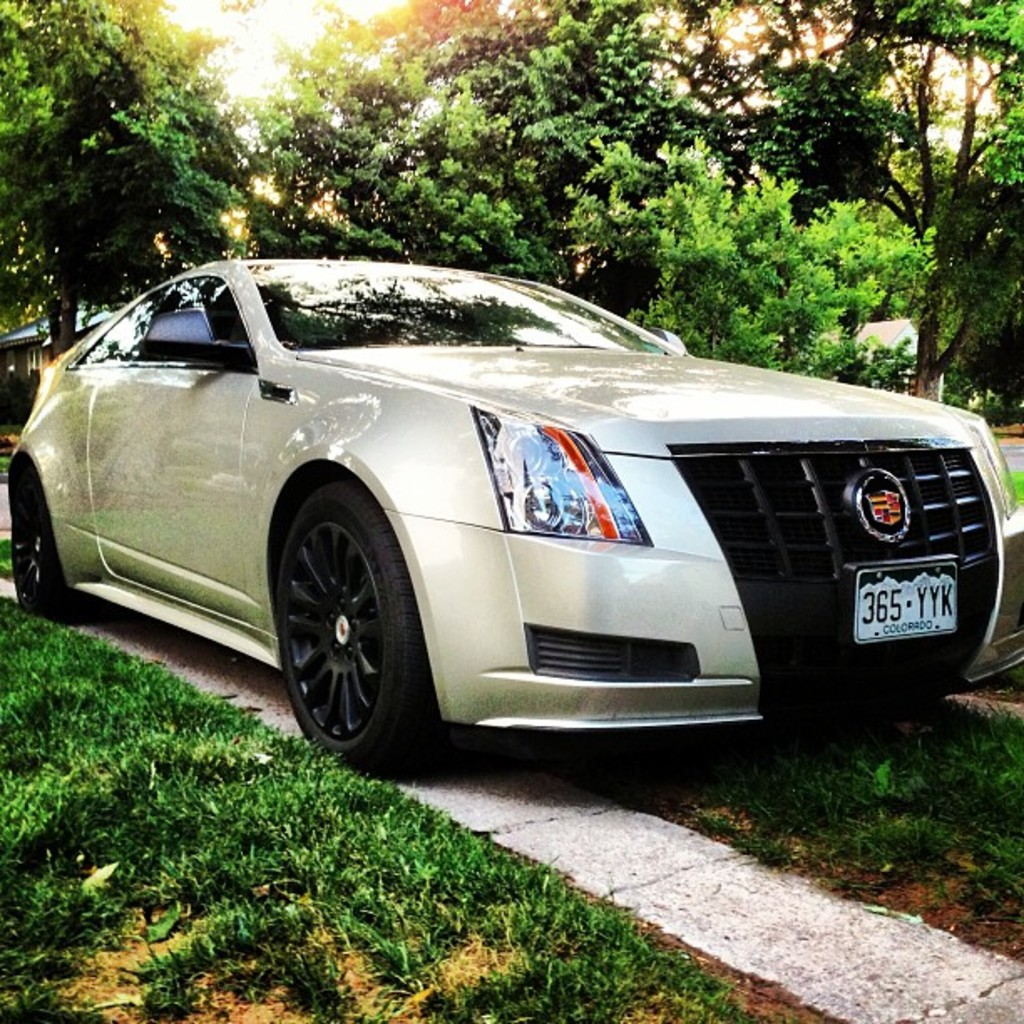Car: (8, 259, 1024, 781)
